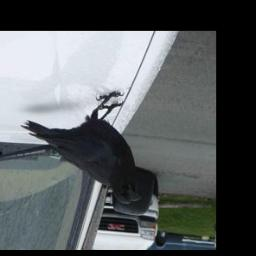Crow: (22, 90, 140, 205)
